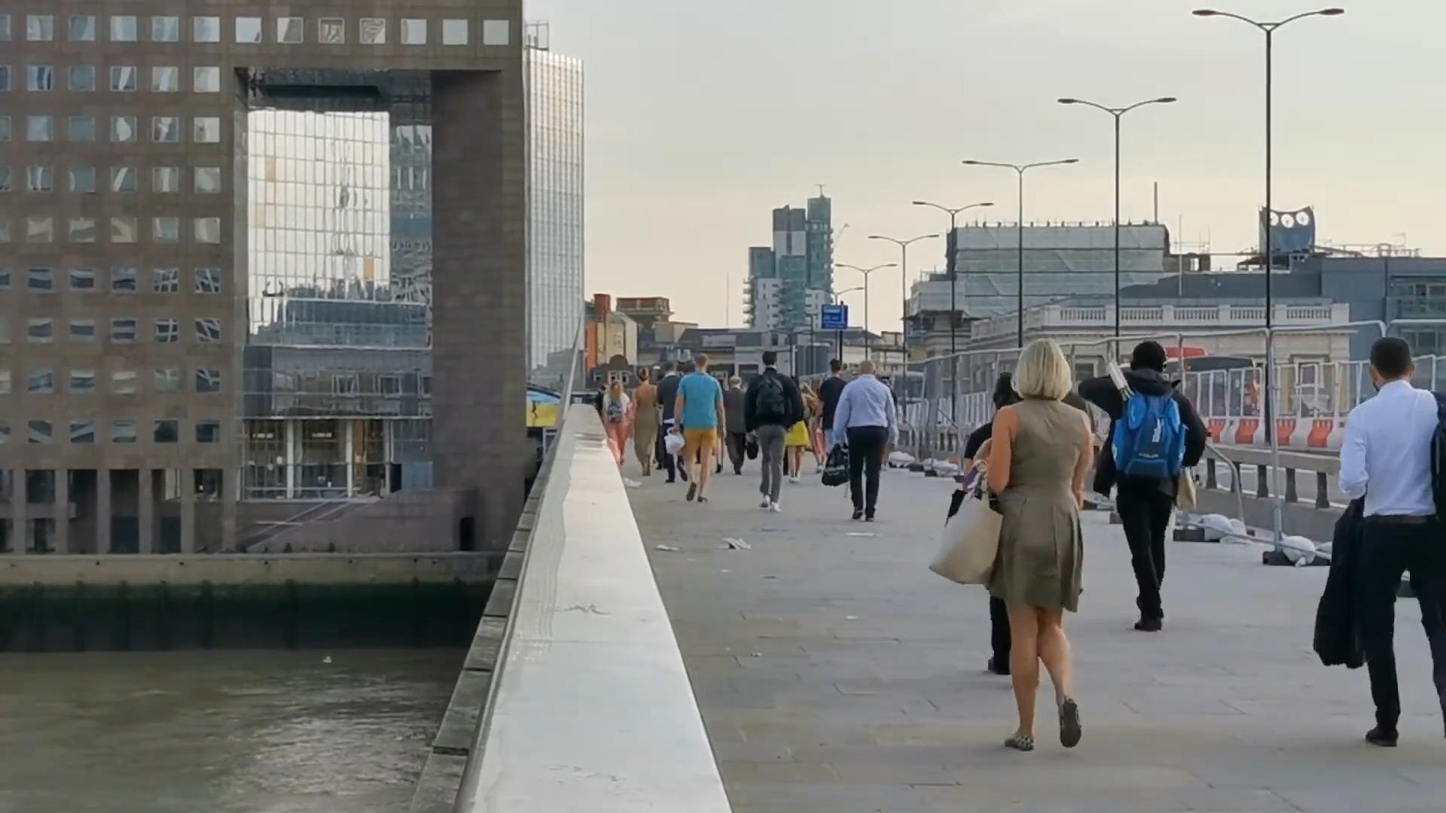no-helmet: (1010, 337, 1073, 404), (1368, 337, 1416, 393), (1130, 341, 1169, 373), (693, 353, 709, 373), (608, 379, 622, 401), (762, 350, 777, 368), (638, 367, 649, 385)
